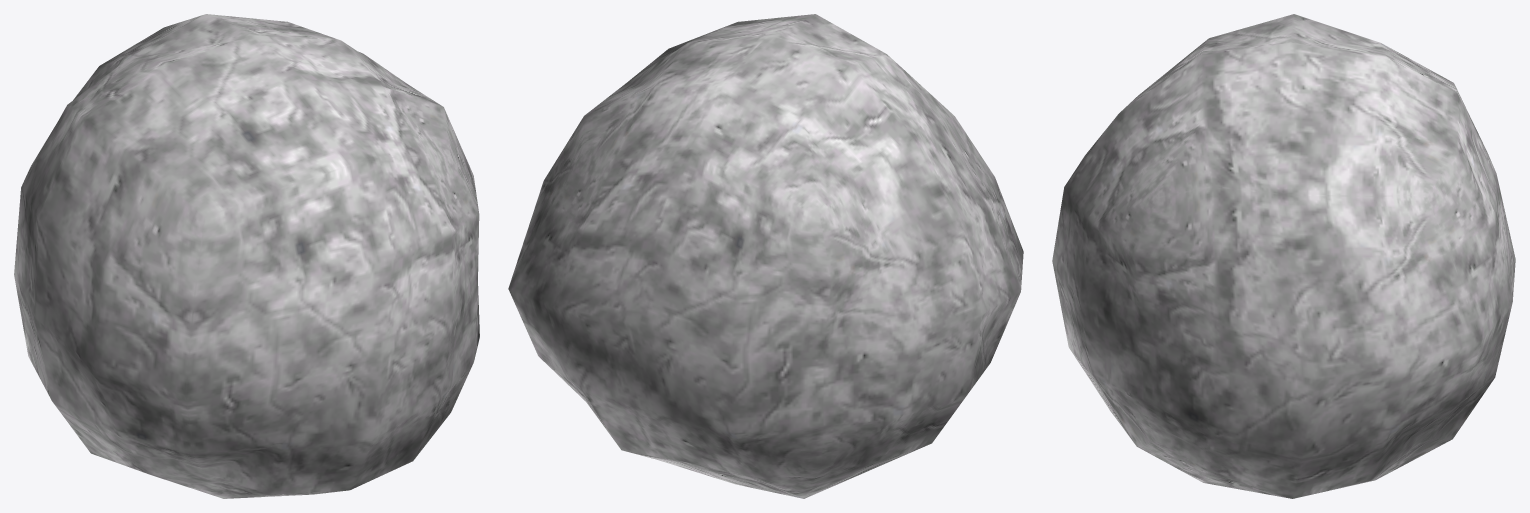
Rendered from INST_TROLLHOLE_ROLLINGROCKA.fbx.
3 renders of one model, left to right at view 1: azimuth 30°, elevation 25°; view 2: azimuth 150°, elevation 25°; view 3: azimuth 270°, elevation 25°, orthographic. The views are drawn at different scales.
Visible parts, largest first — view 1: INST_TROLLHOLE_ROLLINGROCKA; view 2: INST_TROLLHOLE_ROLLINGROCKA; view 3: INST_TROLLHOLE_ROLLINGROCKA.
Boxes of the visible parts, x1=… form: INST_TROLLHOLE_ROLLINGROCKA: x1=14, y1=14, x2=479, y2=498; INST_TROLLHOLE_ROLLINGROCKA: x1=508, y1=14, x2=1023, y2=498; INST_TROLLHOLE_ROLLINGROCKA: x1=1052, y1=14, x2=1515, y2=498.
Size of the model in its own units: 17921 by 17921 by 17921.
1 material, 1 textured.
